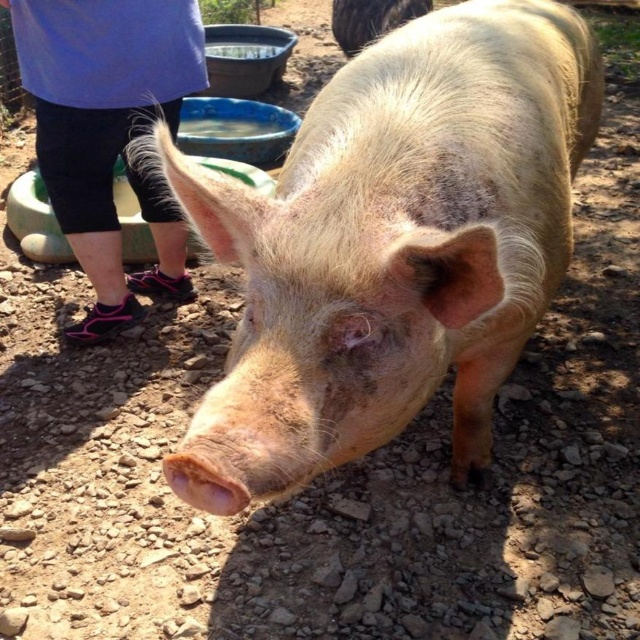Pig: (123, 0, 607, 519)
